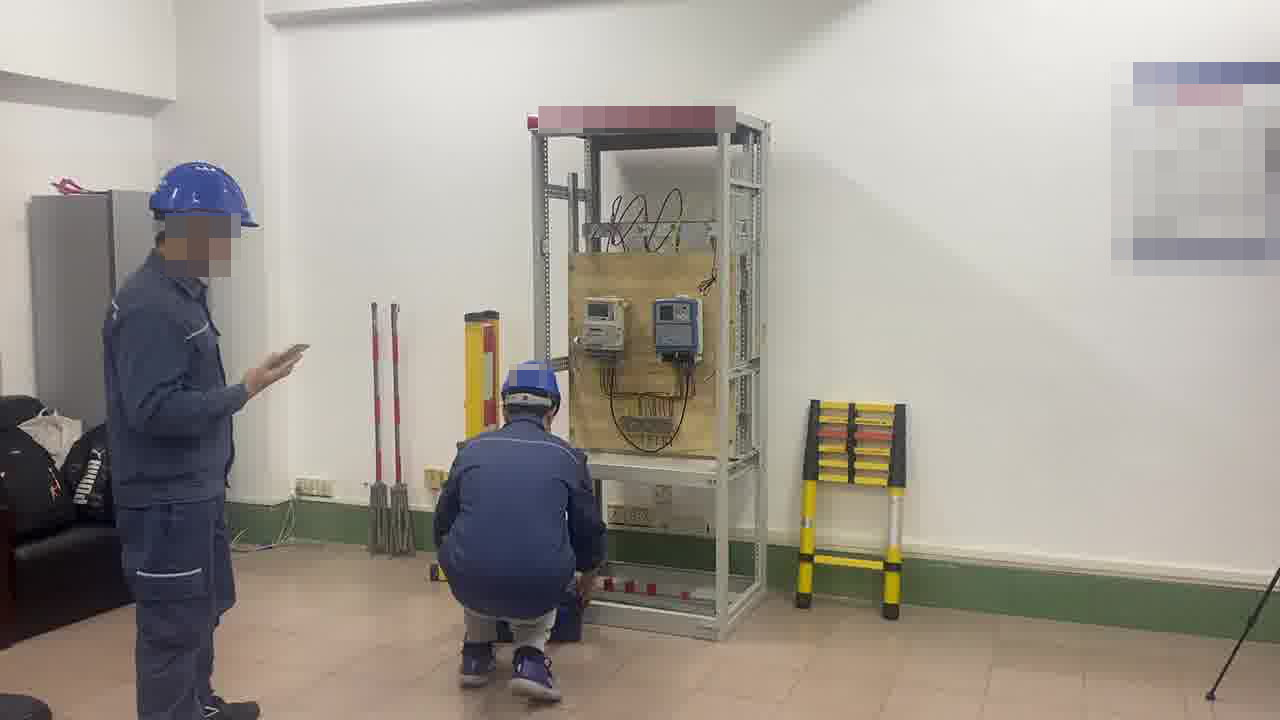downcloth: (452, 604, 561, 681)
downsuit: (121, 508, 240, 717)
halt: (147, 163, 257, 278), (499, 360, 564, 418)
hand: (241, 344, 309, 399), (577, 574, 600, 605)
inear: (177, 213, 216, 269)
person: (102, 160, 280, 718), (434, 359, 607, 707)
upsuit: (107, 262, 246, 500), (433, 418, 608, 595)
